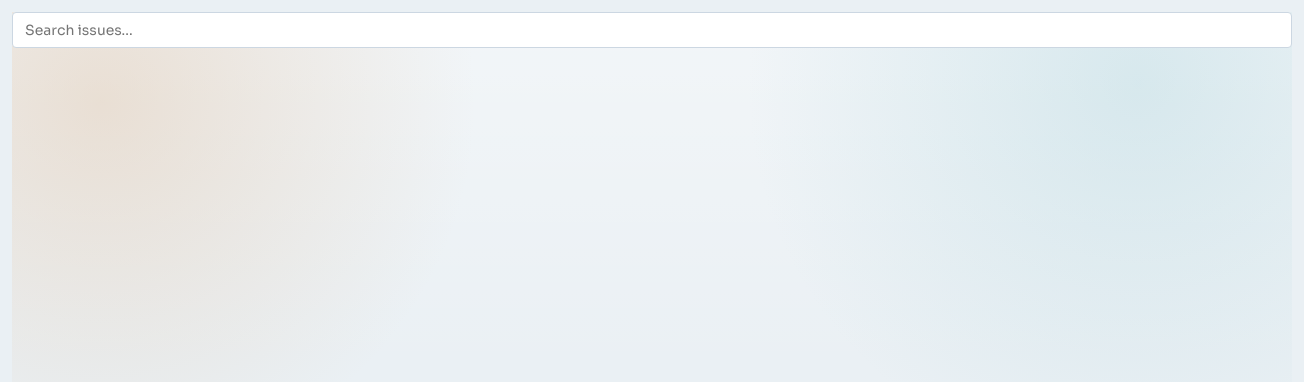
it: ignores an older response and hides results immediately when cleared
Type "old" into the field at (652, 30), box [12,12,1292,48]
Wait 300 ms
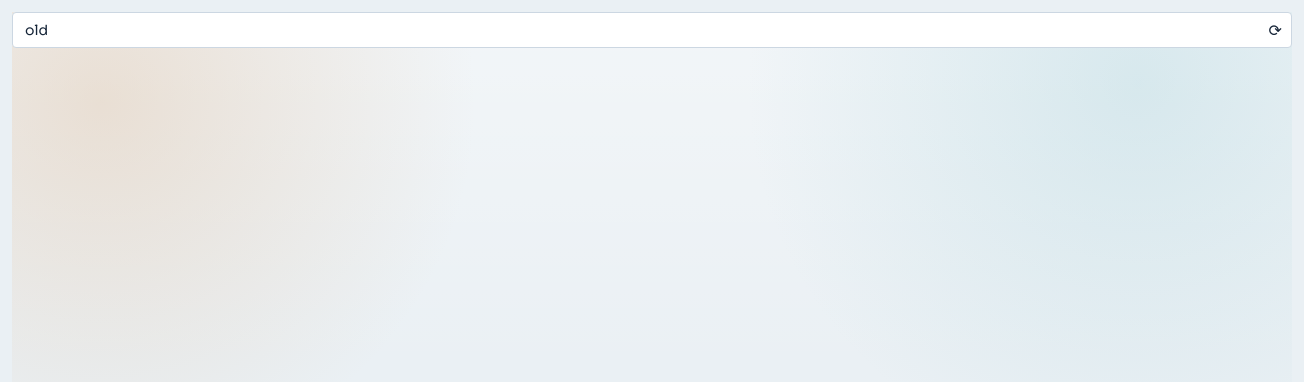
Replace the text in the field with "new" at (652, 30), box [12,12,1292,48]
Wait 300 ms
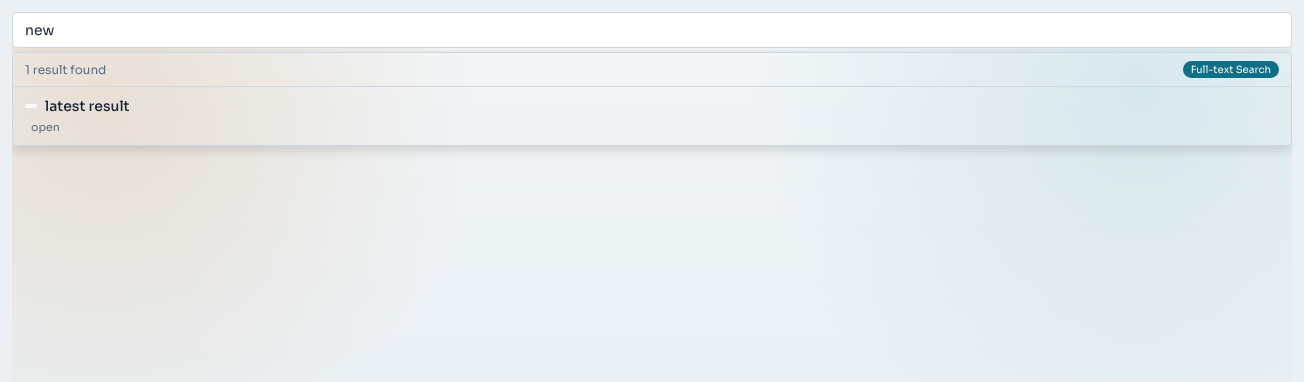
Expected: the text "latest result" is shown, [45,97,130,115]
Clear the field at (652, 30), box [12,12,1292,48]
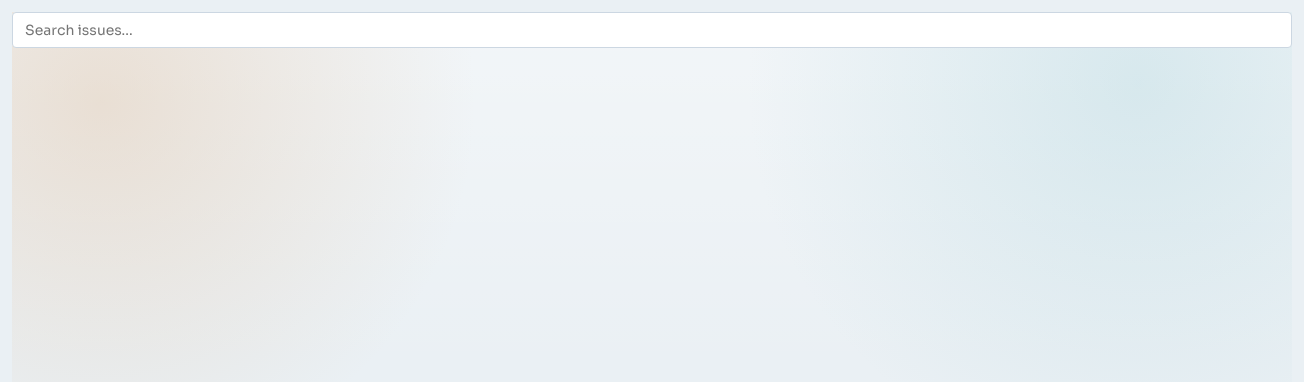
Expected: the text "latest result" is gone
